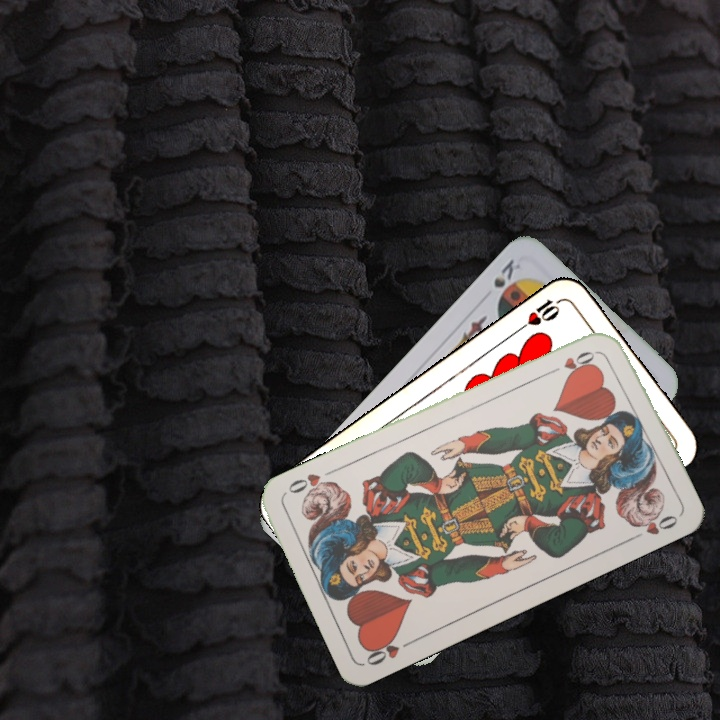H10: (514, 294, 567, 334)
HO: (362, 633, 417, 668), (546, 346, 603, 376)
SK: (489, 254, 524, 291)
